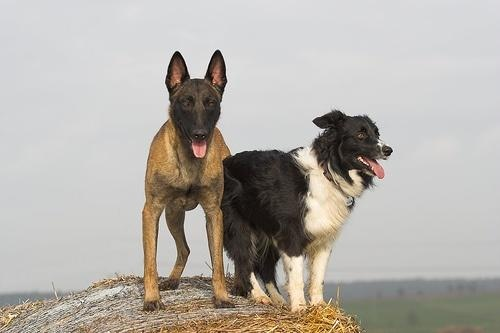dog: (222, 110, 396, 312), (132, 50, 238, 303)
